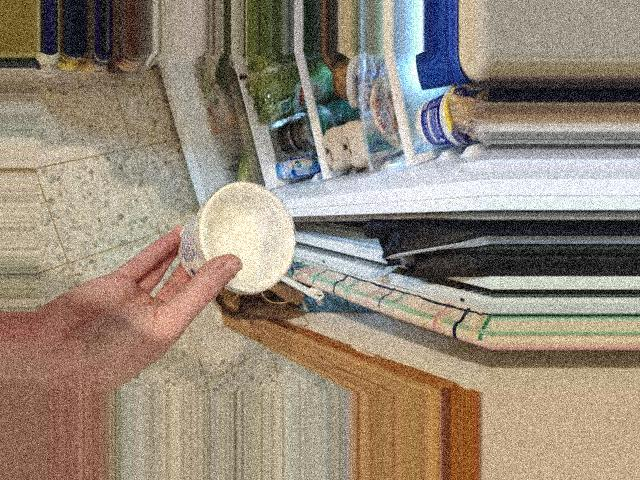cotage: (178, 202, 300, 298)
